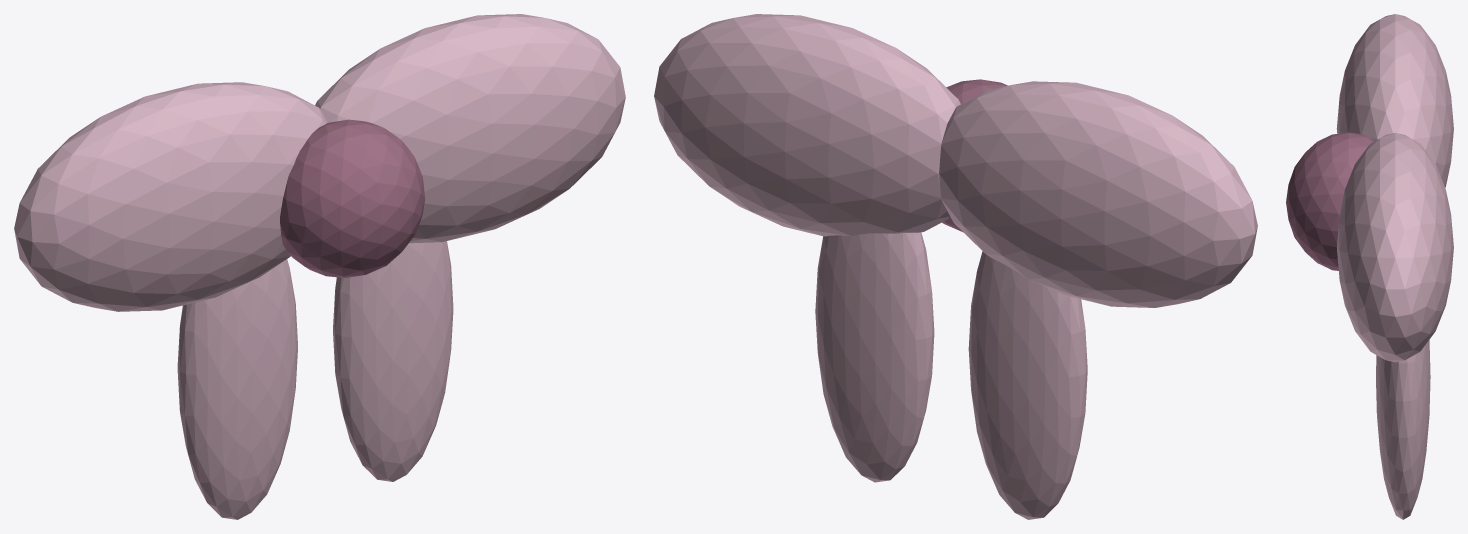
The model's file is pink_ribbon.glb.
The picture shows the model from 3 angles, left to right: view 1: azimuth 30°, elevation 25°; view 2: azimuth 150°, elevation 25°; view 3: azimuth 270°, elevation 25°; orthographic projection. The views are drawn at different scales.
Parts seen in each view (by area): view 1: silk_loop_-1, silk_loop_1, silk_tail_-1, silk_tail_1, silk_knot; view 2: silk_loop_-1, silk_loop_1, silk_tail_1, silk_tail_-1, silk_knot; view 3: silk_loop_1, silk_loop_-1, silk_tail_1, silk_knot.
Boxes of the visible parts, x1,y1,x2,y2 form: silk_loop_-1: (14,82,327,311); silk_loop_1: (315,14,625,243); silk_tail_-1: (177,259,297,519); silk_tail_1: (333,241,453,481); silk_knot: (280,119,425,277); silk_loop_-1: (939,81,1257,307); silk_loop_1: (654,14,960,236); silk_tail_1: (815,232,934,482); silk_tail_-1: (968,251,1087,519); silk_knot: (942,79,1007,232); silk_loop_1: (1336,133,1453,362); silk_loop_-1: (1336,14,1453,187); silk_tail_1: (1376,340,1430,519); silk_knot: (1286,132,1373,270).
Size of the model in its own units: 1.64 by 1.16 by 0.4515.
